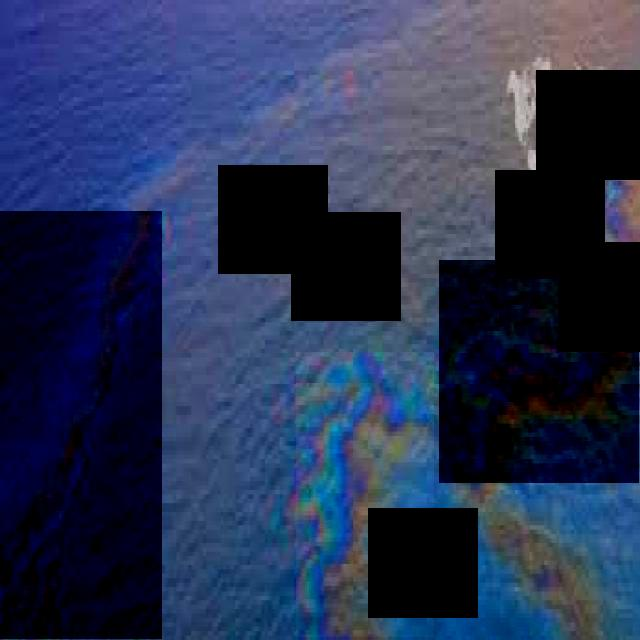oil spill: (0, 212, 162, 639), (439, 261, 639, 483), (296, 353, 434, 637)
